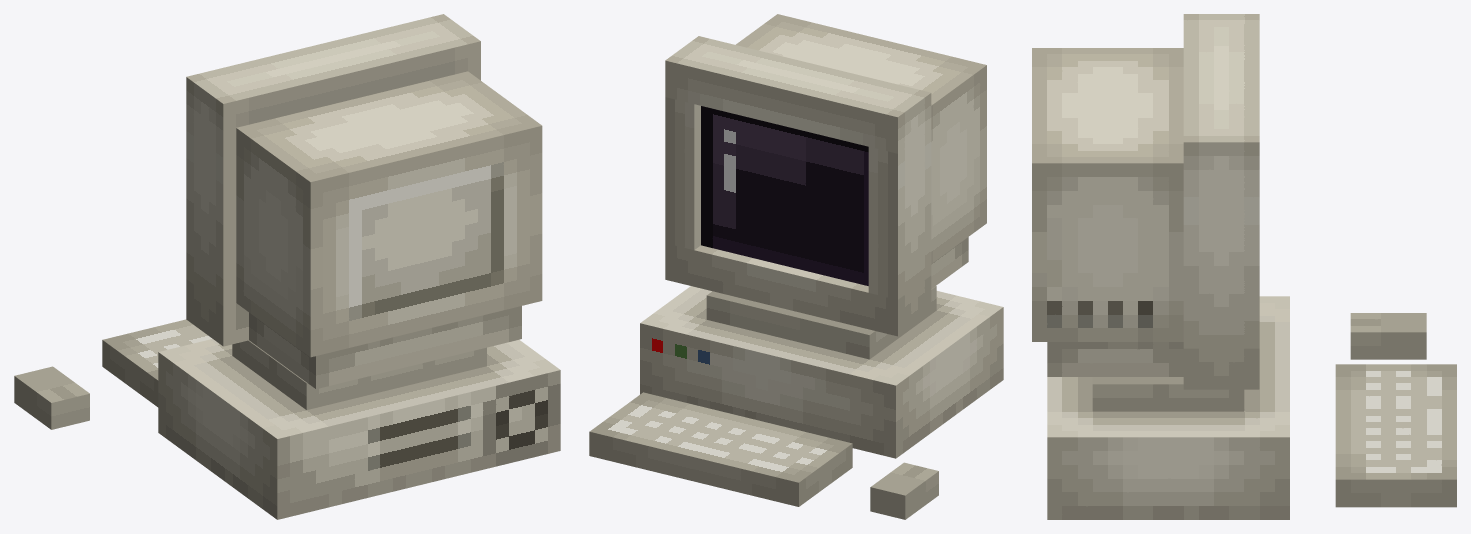
File: finalpc.glb
3 renders of one model, left to right at view 1: azimuth 30°, elevation 25°; view 2: azimuth 150°, elevation 25°; view 3: azimuth 270°, elevation 25°, orthographic. The views are drawn at different scales.
Visible parts, largest first — view 1: cube_8, cube_0, cube_4, cube_9, cube_6, cube_1, cube_10, cube_11, cube_3; view 2: cube_0, cube_7, cube_8, cube_10, cube_4, cube_3, cube_6, cube_1, cube_5, cube_11, cube_9; view 3: cube_8, cube_0, cube_10, cube_4, cube_5, cube_9, cube_1, cube_11, cube_3.
Part boxes in pixels (x1,y1,x2,y2): cube_8: [236, 71, 542, 357]; cube_0: [158, 339, 560, 519]; cube_4: [186, 14, 480, 144]; cube_9: [249, 306, 521, 389]; cube_6: [186, 117, 236, 305]; cube_1: [232, 340, 486, 410]; cube_10: [102, 319, 212, 407]; cube_11: [14, 366, 89, 429]; cube_3: [186, 279, 248, 346]; cube_0: [640, 286, 1003, 458]; cube_7: [701, 106, 868, 285]; cube_8: [735, 14, 986, 263]; cube_10: [589, 392, 852, 506]; cube_4: [665, 36, 931, 153]; cube_3: [665, 243, 931, 336]; cube_6: [868, 129, 931, 299]; cube_1: [706, 286, 936, 359]; cube_5: [665, 97, 700, 249]; cube_11: [870, 462, 938, 519]; cube_9: [931, 237, 968, 288]; cube_8: [1032, 48, 1183, 341]; cube_0: [1047, 296, 1289, 519]; cube_10: [1335, 364, 1456, 507]; cube_4: [1183, 14, 1259, 183]; cube_5: [1183, 183, 1259, 348]; cube_9: [1047, 342, 1183, 376]; cube_1: [1092, 377, 1244, 411]; cube_11: [1350, 313, 1426, 359]; cube_3: [1183, 348, 1259, 389].
Bounding box in the file's own units: 1.75 × 1.69 × 1.75.
Materials: 1 (1 with a texture image).
